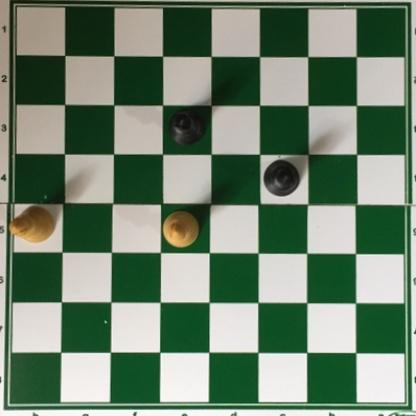black-bishop: (262, 157, 301, 198), (169, 108, 209, 146)
white-bishop: (8, 204, 57, 245), (162, 210, 201, 249)
